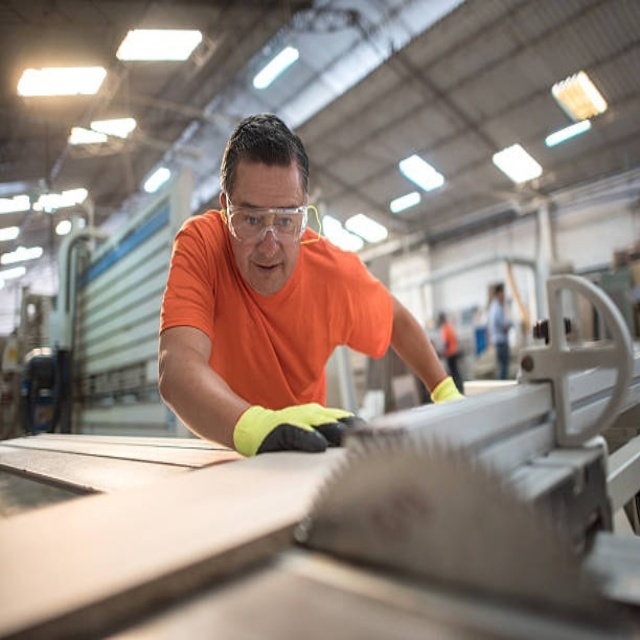Gafas: (224, 192, 314, 245)
Guantes: (233, 402, 360, 458), (430, 376, 465, 404)
Sin_mascara: (245, 253, 288, 290)
